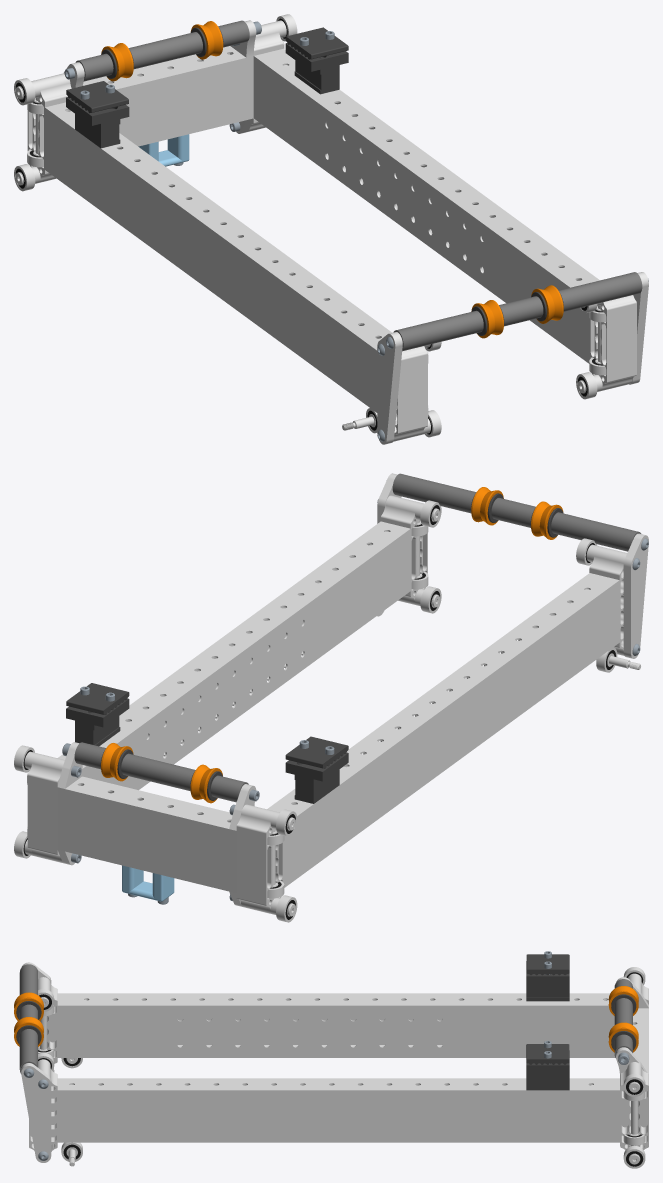
3 renders of one model, top to bottom at view 1: azimuth 30°, elevation 25°; view 2: azimuth 150°, elevation 25°; view 3: azimuth 270°, elevation 25°, orthographic. The views are drawn at different scales.
Visible parts, largest first — view 1: Televator Main Tube (×2), Tube 2"x1"x5.5", WCP-0199-001 Rev2 (×4), Part 1 (×7), Carbon Fiber Tube 2.77" (×2), belt clamp bottom (×2), belt clamp top (×2), Carbon Fiber Tube 2.288in, Carbon Fiber Tube .685" (×2), nrg chain guide, Carbon Fiber Tube 1.21"; view 2: Televator Main Tube (×2), Tube 2"x1"x5.5", WCP-0199-001 Rev2 (×4), Part 1 (×7), Carbon Fiber Tube 2.77" (×2), belt clamp bottom (×2), belt clamp top (×2), Carbon Fiber Tube 2.288in, nrg chain guide, Carbon Fiber Tube 1.21", Carbon Fiber Tube .685"; view 3: Televator Main Tube (×2), Part 1 (×5), WCP-0199-001 Rev2 (×3), belt clamp bottom (×2), belt clamp top (×2), Carbon Fiber Tube 2.77" (×2), Tube 2"x1"x5.5", Carbon Fiber Tube 2.288in, WCP-0212_0_250_radial_bearing_1, WCP-0212_0_250_radial_bearing.
Boxes of the visible parts, bbox=[...] form: Televator Main Tube (×2): bbox=[45, 48, 599, 412]; Tube 2"x1"x5.5": bbox=[83, 46, 246, 146]; WCP-0199-001 Rev2 (×4): bbox=[27, 22, 636, 441]; Part 1 (×7): bbox=[101, 20, 648, 444]; Carbon Fiber Tube 2.77" (×2): bbox=[393, 272, 642, 351]; belt clamp bottom (×2): bbox=[66, 43, 348, 148]; belt clamp top (×2): bbox=[66, 27, 348, 113]; Carbon Fiber Tube 2.288in: bbox=[128, 32, 202, 69]; Carbon Fiber Tube .685" (×2): bbox=[75, 20, 249, 81]; nrg chain guide: bbox=[138, 134, 189, 166]; Carbon Fiber Tube 1.21": bbox=[499, 296, 543, 326]; Televator Main Tube (×2): bbox=[57, 521, 619, 887]; Tube 2"x1"x5.5": bbox=[65, 776, 232, 891]; WCP-0199-001 Rev2 (×4): bbox=[27, 495, 627, 913]; Part 1 (×7): bbox=[57, 487, 648, 906]; Carbon Fiber Tube 2.77" (×2): bbox=[392, 473, 641, 551]; belt clamp bottom (×2): bbox=[66, 698, 348, 803]; belt clamp top (×2): bbox=[66, 683, 348, 768]; Carbon Fiber Tube 2.288in: bbox=[121, 753, 195, 791]; nrg chain guide: bbox=[122, 865, 174, 901]; Carbon Fiber Tube 1.21": bbox=[491, 498, 535, 527]; Carbon Fiber Tube .685": bbox=[210, 775, 248, 802]; Televator Main Tube (×2): bbox=[57, 993, 619, 1142]; Part 1 (×5): bbox=[14, 986, 638, 1162]; WCP-0199-001 Rev2 (×3): bbox=[29, 977, 648, 1151]; belt clamp bottom (×2): bbox=[526, 961, 569, 1090]; belt clamp top (×2): bbox=[526, 954, 569, 1064]; Carbon Fiber Tube 2.77" (×2): bbox=[19, 964, 37, 1073]; Tube 2"x1"x5.5": bbox=[633, 1008, 648, 1073]; Carbon Fiber Tube 2.288in: bbox=[614, 998, 632, 1024]; WCP-0212_0_250_radial_bearing_1: bbox=[623, 1074, 645, 1096]; WCP-0212_0_250_radial_bearing: bbox=[623, 1145, 645, 1168].
Bounding box in the file's own units: 0.2524 × 0.1177 × 0.5593.
